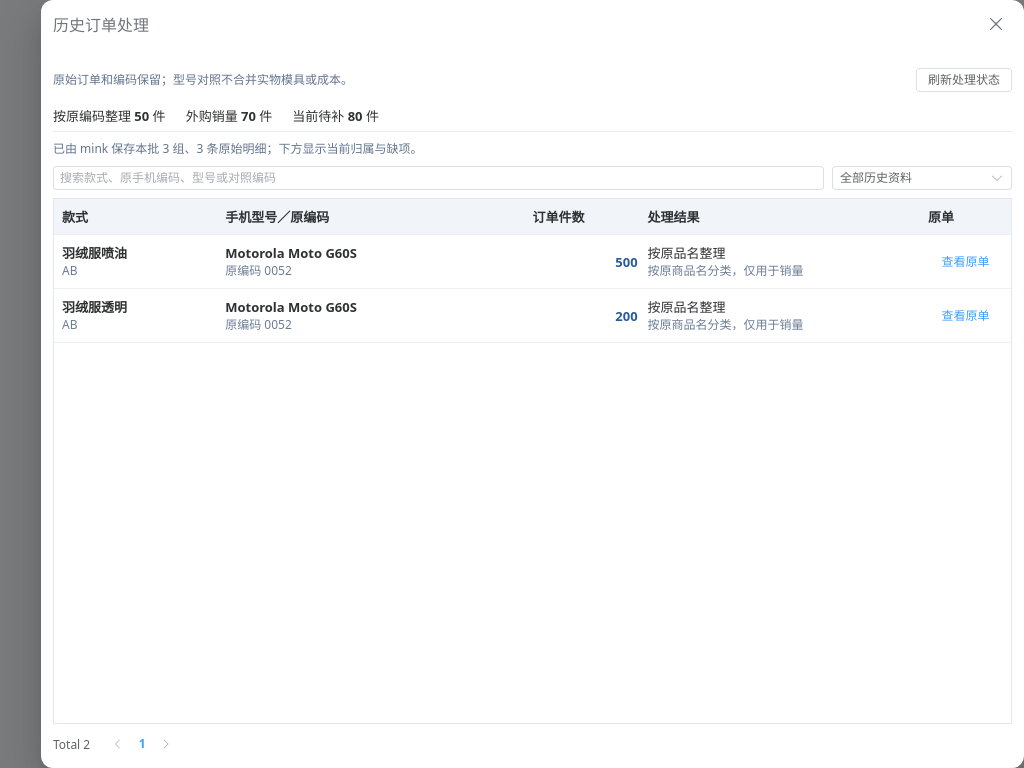
it: historical sales classification and display-only phone references › reads same-code AB categories by their exact sales key and keeps the original product name
Expected: the table with class "review-list" shows "羽绒服喷油", 62,244 -> 127,262
Expected: the table with class "review-list" shows "羽绒服透明", 62,298 -> 127,316
Click the button "查看原单" in the row of "羽绒服透明". click: (966, 316)
box: 928,306 -> 1003,324
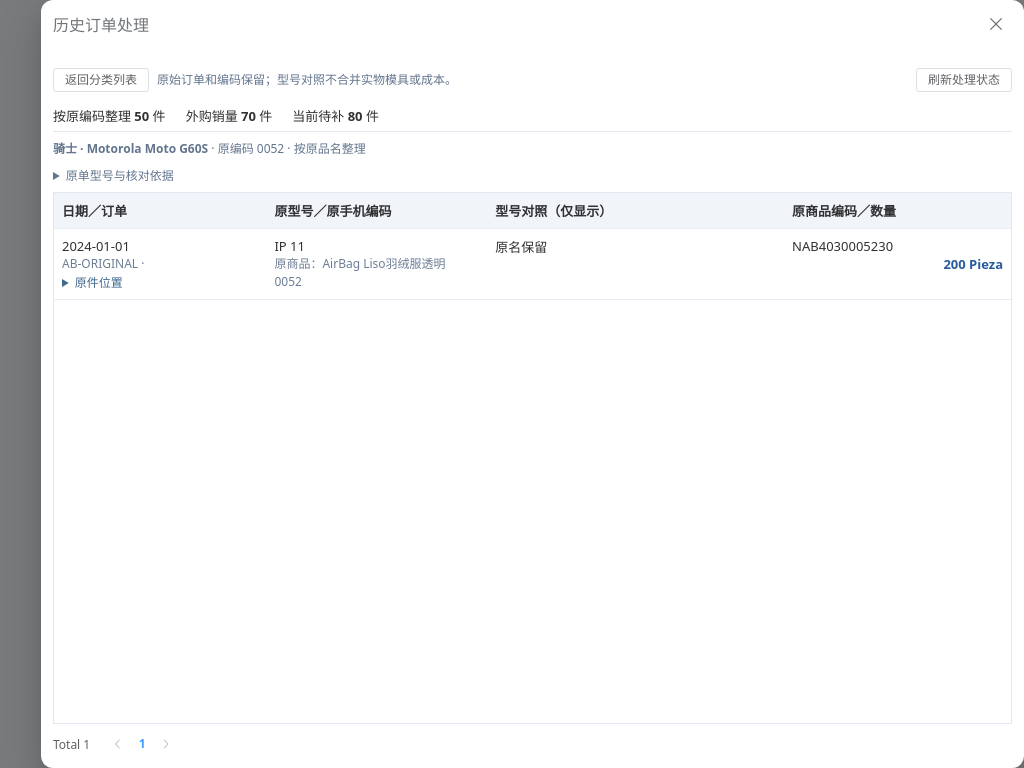
Result: the table with class "order-list" shows "AirBag Liso羽绒服透明" at 274,255 -> 446,272
Result: the table with class "order-list" shows "NAB4030005230" at 792,237 -> 893,255
